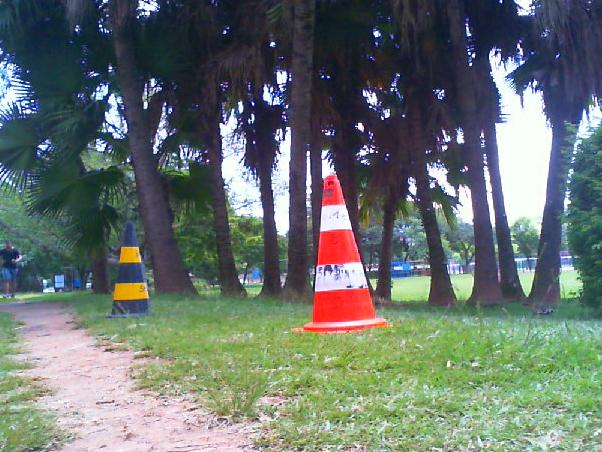0 cone: (289, 175, 395, 336), (95, 221, 157, 318)
